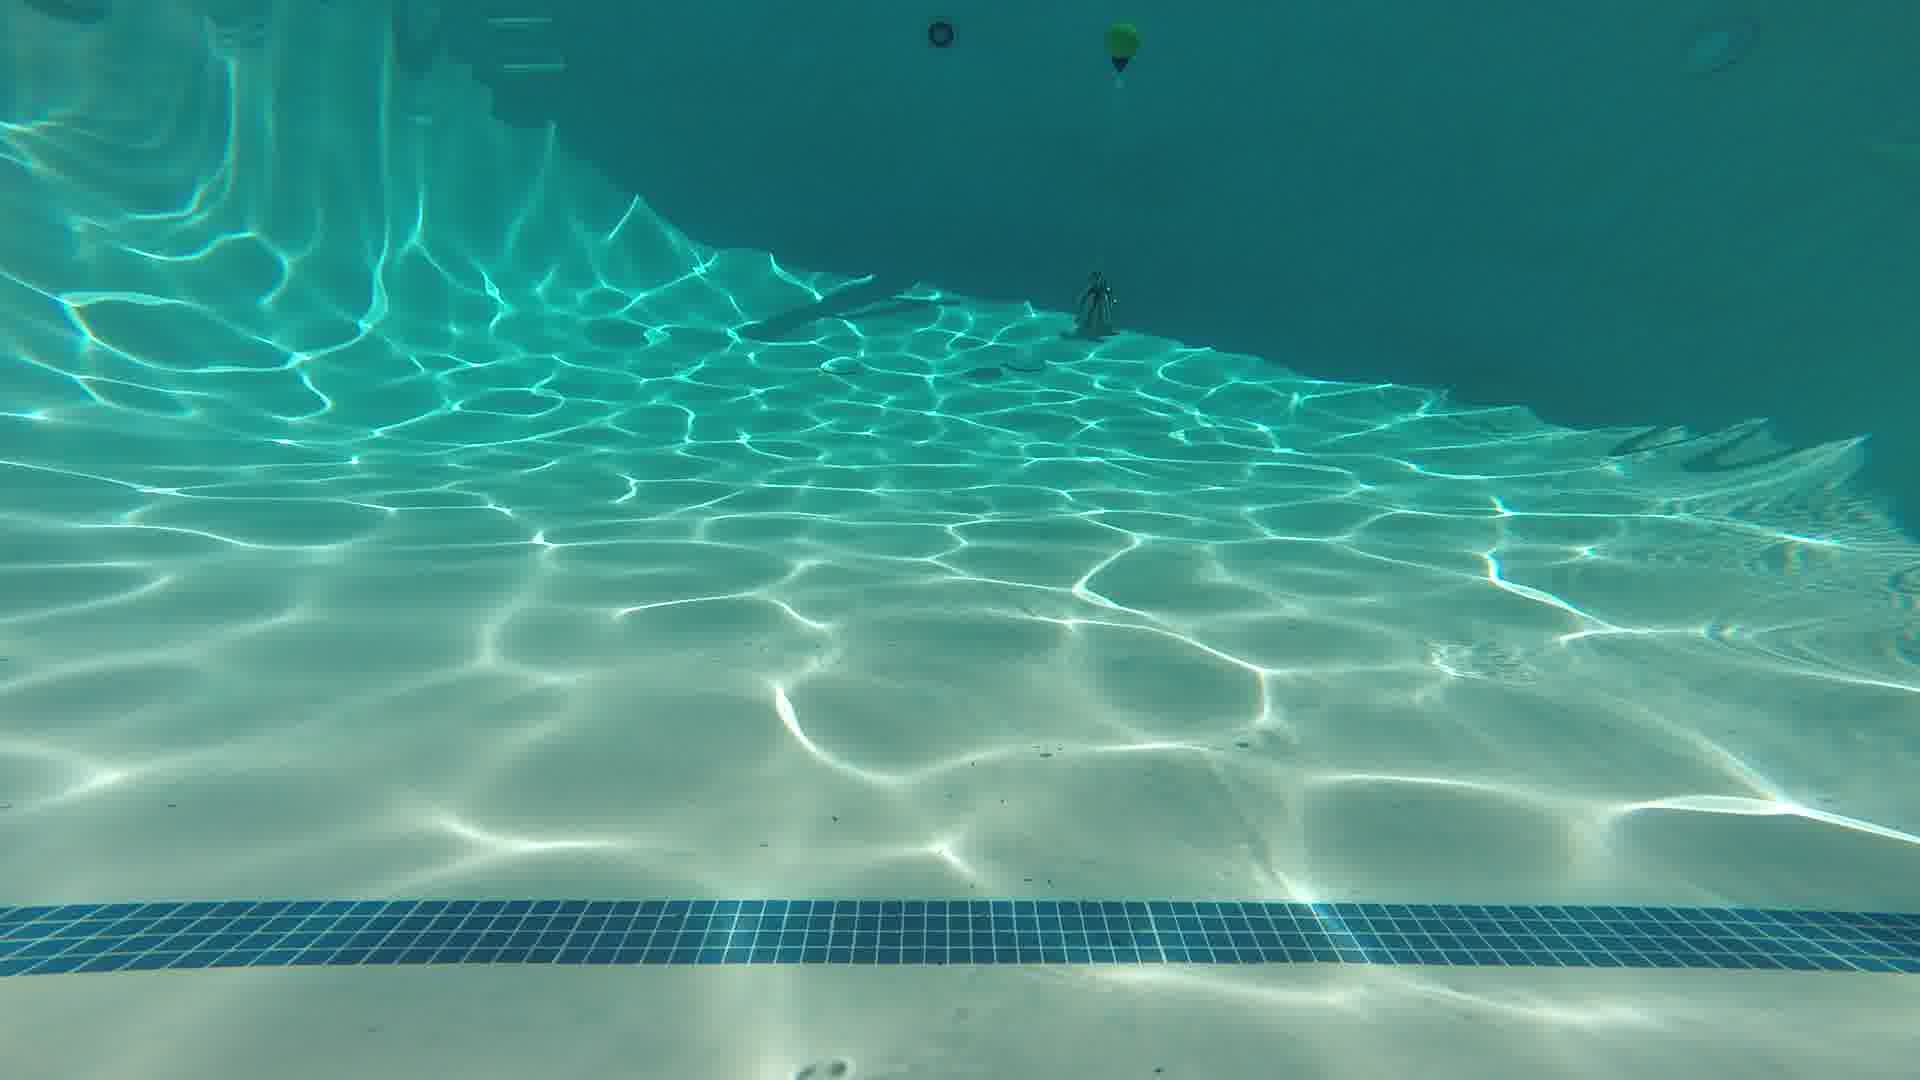yellow buoy: (1095, 16, 1145, 88)
